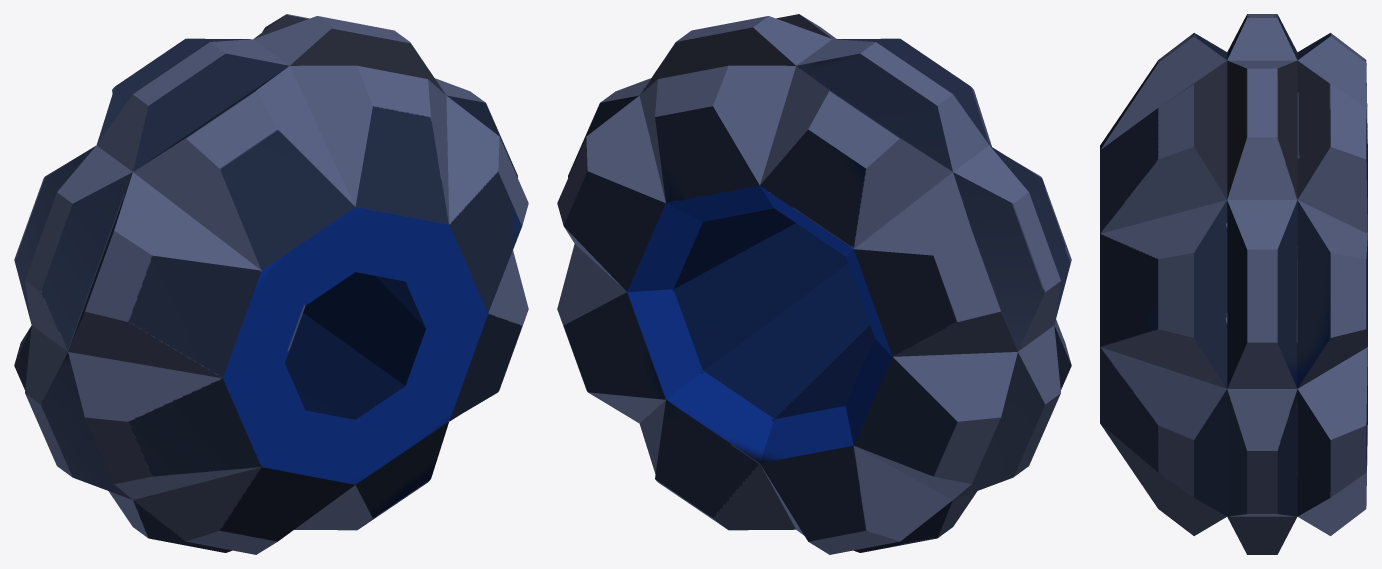
The model's file is Rueda.fbx.
3 renders of one model, left to right at view 1: azimuth 30°, elevation 25°; view 2: azimuth 150°, elevation 25°; view 3: azimuth 270°, elevation 25°, orthographic. The views are drawn at different scales.
Parts seen in each view (by area): view 1: Rueda; view 2: Rueda; view 3: Rueda.
Part boxes in pixels (x1=…): Rueda: x1=14, y1=14, x2=528, y2=554; Rueda: x1=557, y1=14, x2=1071, y2=554; Rueda: x1=1100, y1=14, x2=1367, y2=554.
Size of the model in its own units: 222 by 222 by 112.
